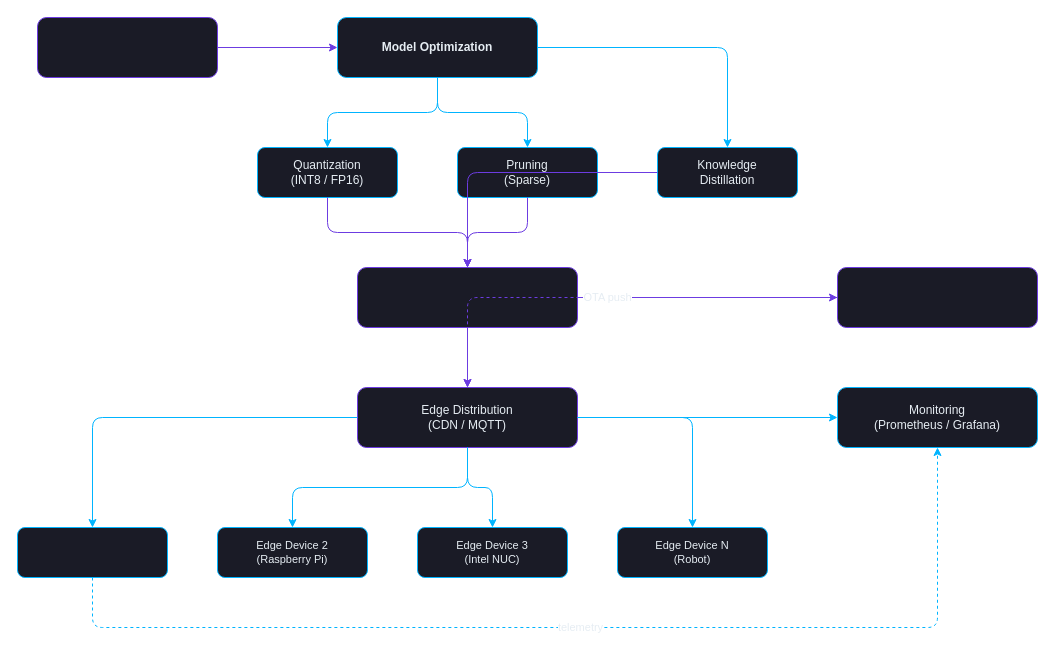
This 1055x653 diagram has some shape labels left out. Each missing label, with the box of its shape:
Cloud Training (GPU Cluster): (36, 16, 218, 78)
Edge Device 1 (Jetson Orin): (16, 526, 168, 578)
Model Packaging (ONNX / TFLite): (356, 266, 578, 328)
OTA Update Service (Version Control): (836, 266, 1038, 328)
